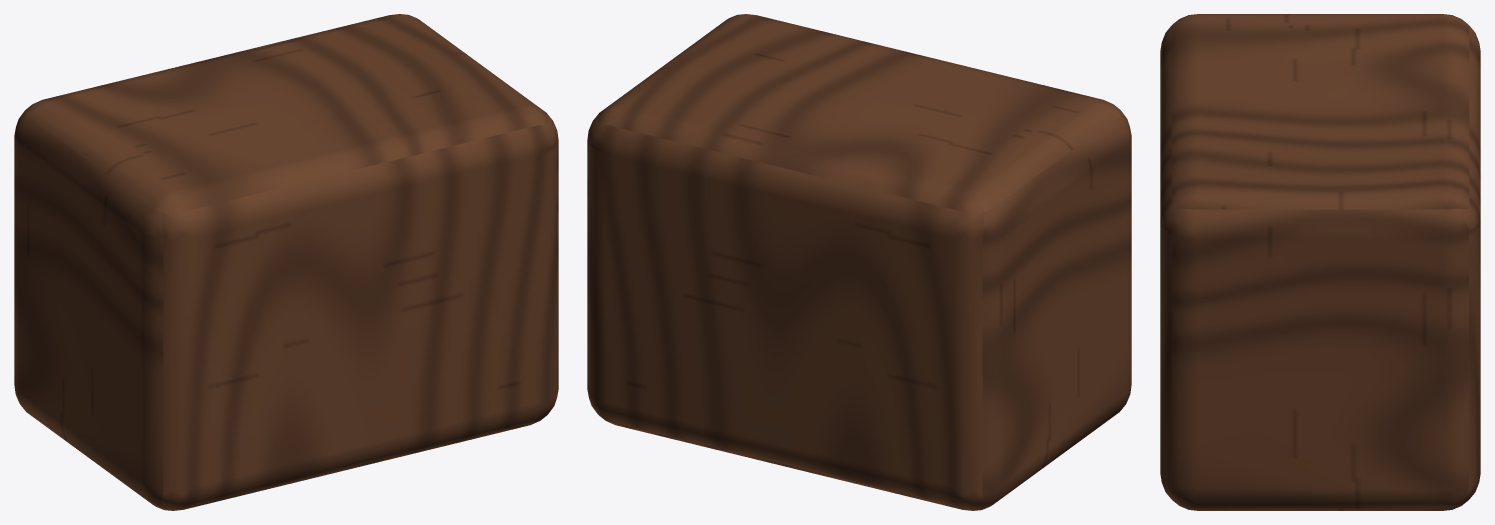
The model's file is key_stand.obj.
The picture shows the model from 3 angles, left to right: view 1: azimuth 30°, elevation 25°; view 2: azimuth 150°, elevation 25°; view 3: azimuth 270°, elevation 25°; orthographic projection.
Visible parts, largest first — view 1: key_stand; view 2: key_stand; view 3: key_stand.
Boxes of the visible parts, x1,y1,x2,y2 form: key_stand: (14,14,558,510); key_stand: (587,14,1131,510); key_stand: (1160,14,1480,510).
Size of the model in its own units: 0.075 by 0.055 by 0.05.
Materials: 1 (1 with a texture image).
